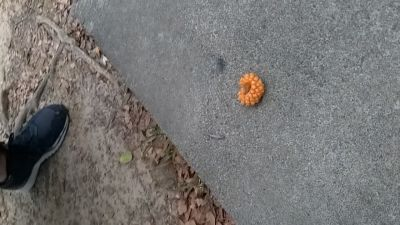eggs: (236, 73, 265, 107)
